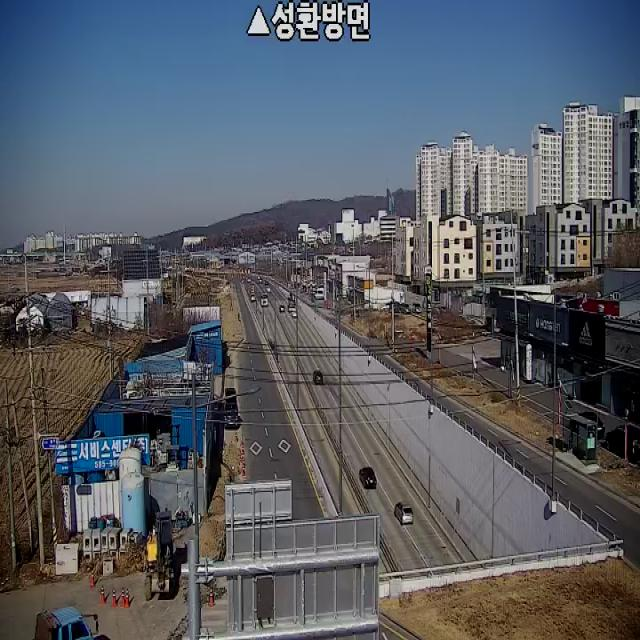Car: (605, 424, 640, 462), (578, 411, 605, 440), (394, 501, 413, 524), (359, 467, 377, 489), (313, 370, 323, 383), (279, 305, 285, 312), (266, 287, 272, 293), (292, 310, 296, 318), (248, 277, 252, 283), (264, 280, 268, 285), (259, 278, 262, 283), (257, 276, 260, 280)
Truck: (141, 506, 181, 606), (32, 607, 99, 640), (225, 387, 238, 428), (261, 294, 268, 306)
